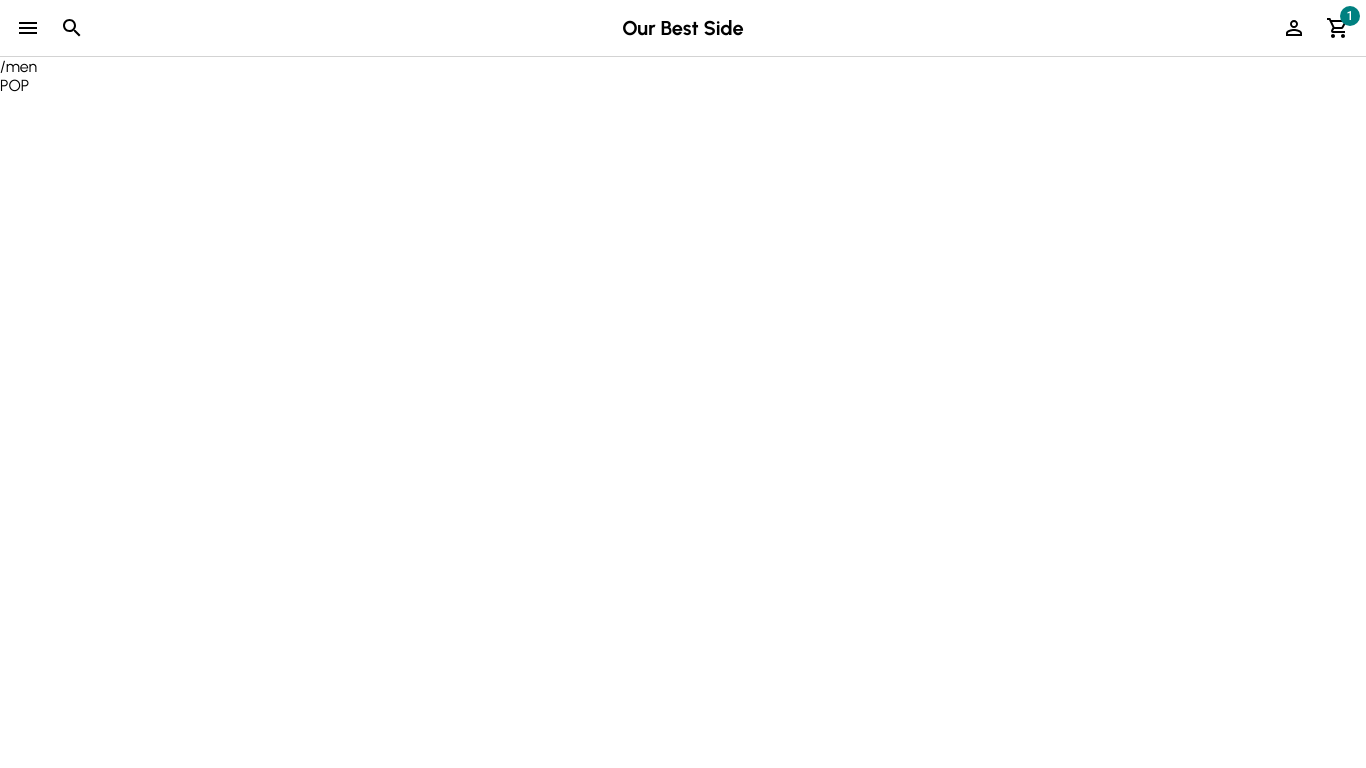
Test: header on phones and tablets › opens a menu with the shop's pages, focus inside, and the page locked
This screenshot has width=1366, height=768.
What coordinates should you click on to do the following:
click the button named "Open menu"
I would click on:
 (28, 28)
Its box is [6,6,50,50].
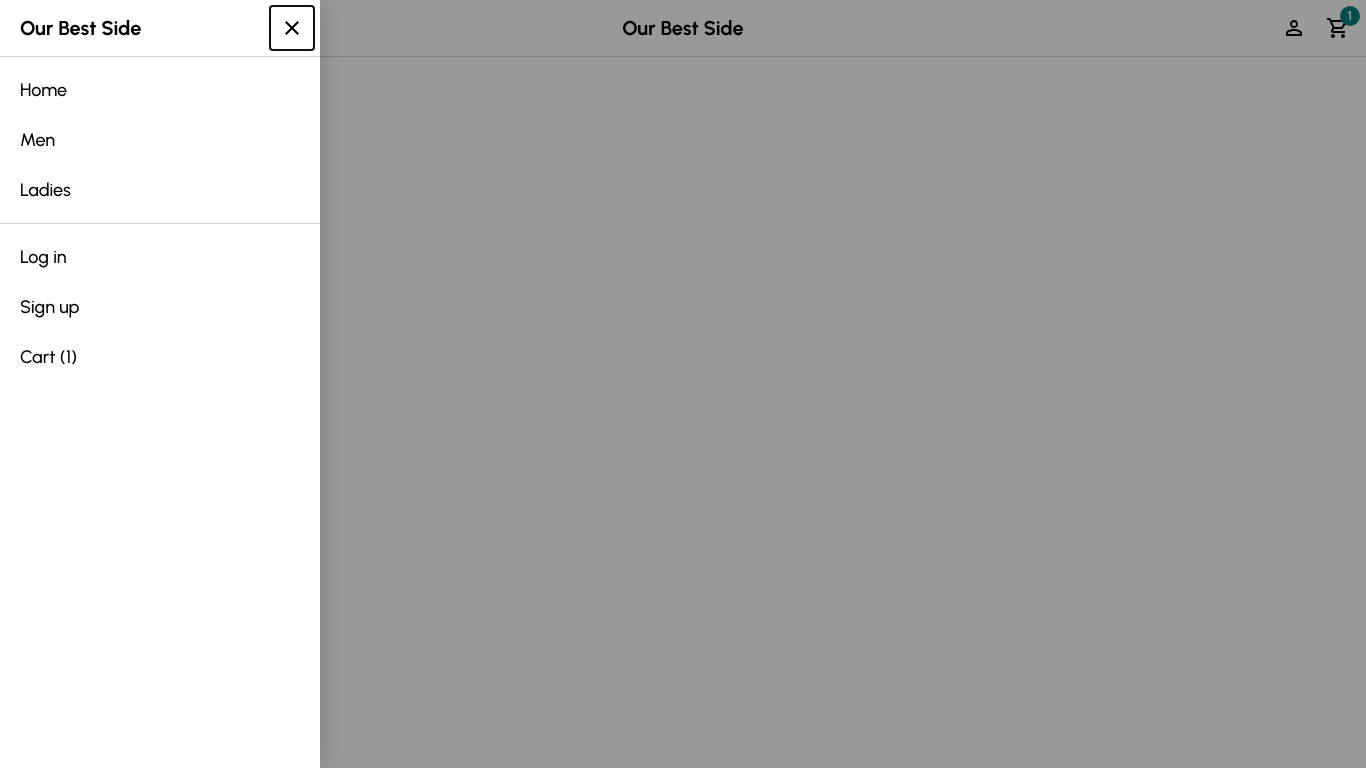
Now the button named "Open menu" is expanded, box [6,6,50,50]
Now the links read "Home", "Men", "Ladies", "Log in", "Sign up", "Cart (1)", in this order, box [20,79,67,101]; [20,129,55,151]; [20,179,71,201]; [20,246,67,268]; [20,296,79,318]; [20,346,77,368]
